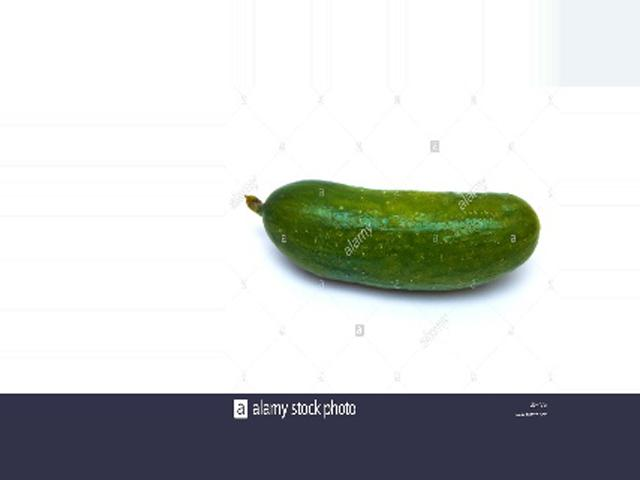cucumber: (244, 179, 541, 290)
